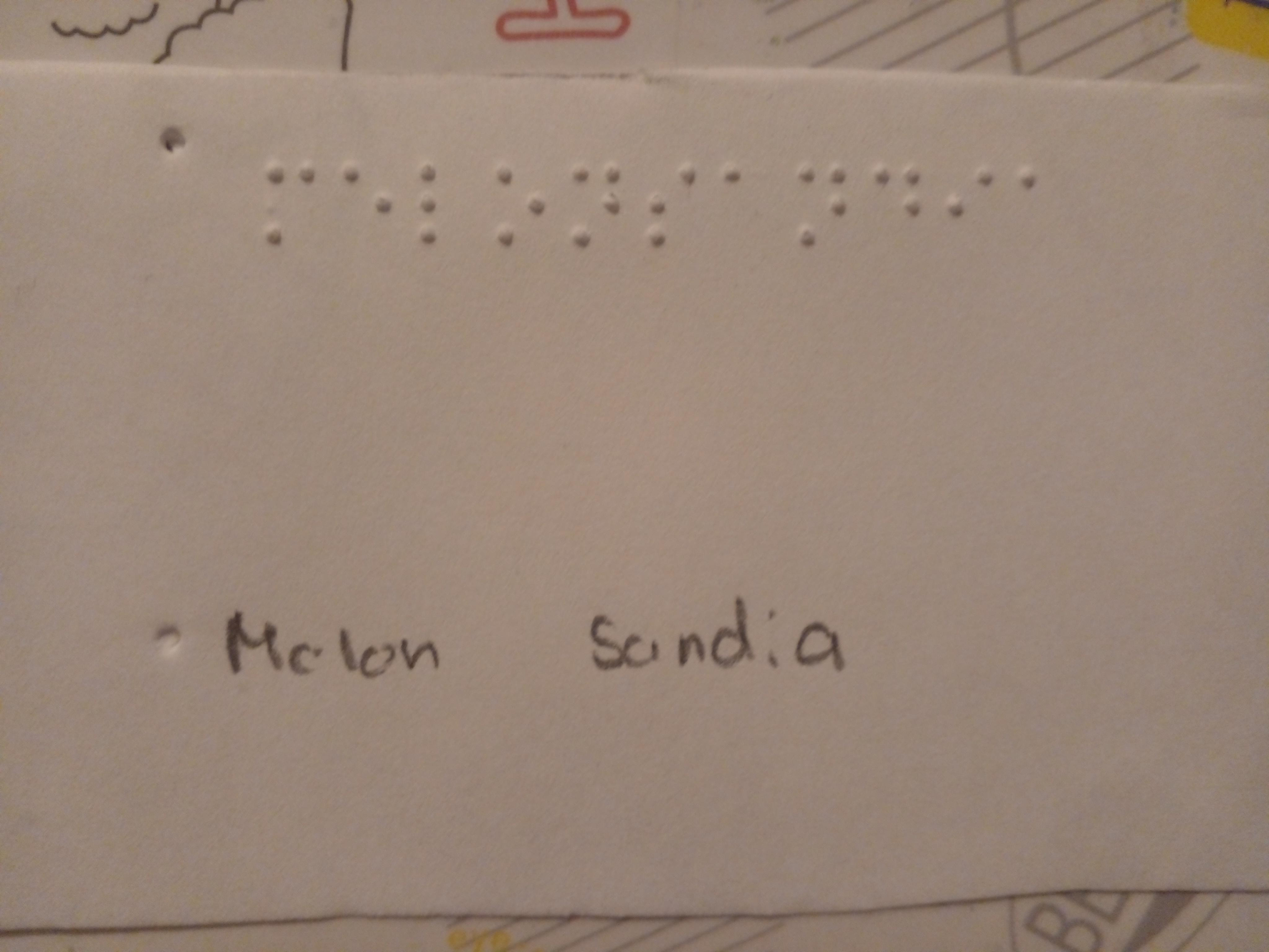a: (713, 155, 778, 226), (1004, 146, 1053, 214)
d: (874, 152, 933, 267)
e: (335, 143, 393, 251)
i: (939, 155, 998, 248)
l: (406, 149, 446, 270)
m: (257, 149, 322, 254)
n: (564, 155, 626, 270), (793, 164, 858, 254)
o: (468, 146, 551, 267)
s: (648, 155, 709, 267)
